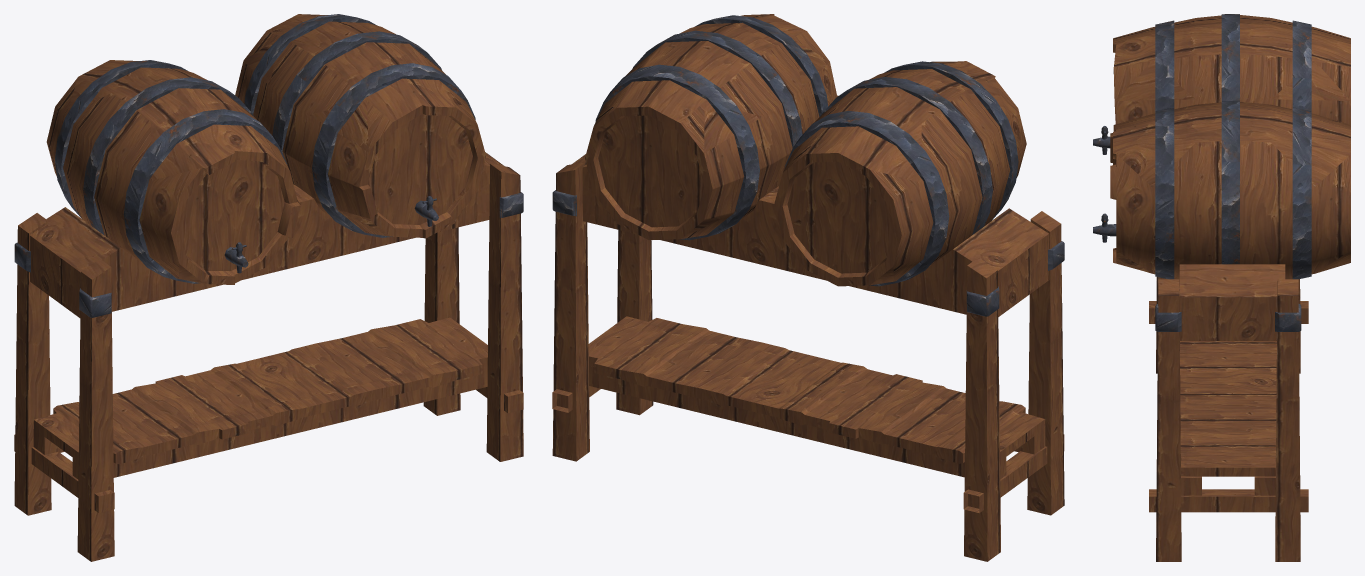
Rendered from furn_barrel_rack.glb.
3 views of the same model, side by side, from view 1: azimuth 30°, elevation 25°; view 2: azimuth 150°, elevation 25°; view 3: azimuth 270°, elevation 25° (orthographic). The views are drawn at different scales.
Parts seen in each view (by area): view 1: model; view 2: model; view 3: model.
Boxes of the visible parts, box(x1,y1,x2,y2) form: model: box(14, 14, 523, 561); model: box(552, 14, 1064, 561); model: box(1093, 14, 1350, 561).
Size of the model in its own units: 1.36 by 1.26 by 0.741.
2 materials, 2 textured.
